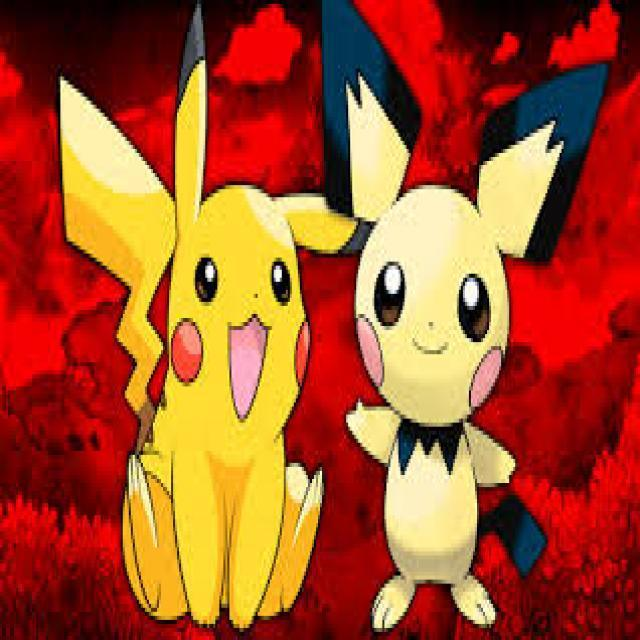pichu: (320, 0, 608, 640)
